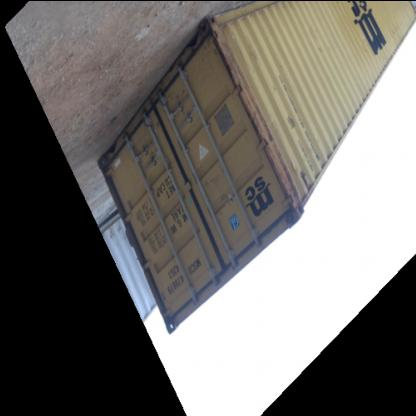Damage: (268, 160, 297, 216), (207, 28, 233, 82), (283, 111, 302, 130), (308, 40, 322, 58)
